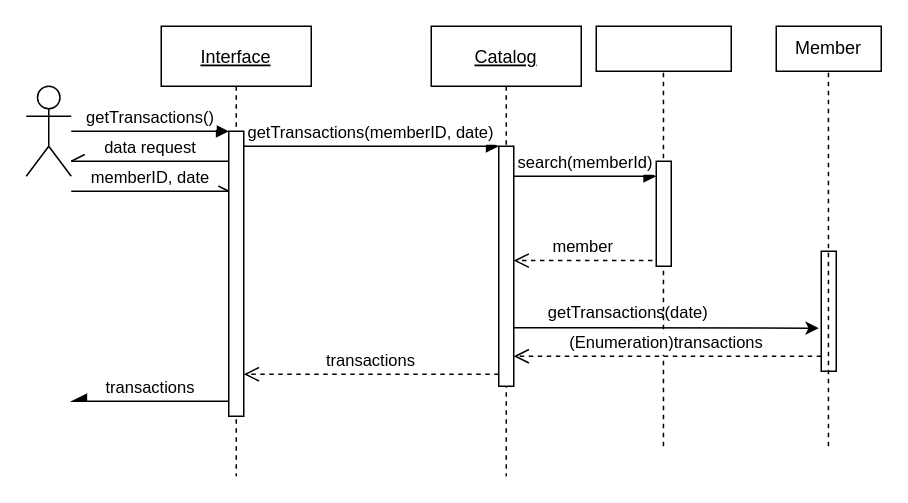
Image size: 908x503. Some labels were removed from this diagram. Here are the shapes that lost their labels. From the top down, the box of each, then its label:
(595, 25, 731, 71): MemberList
(25, 85, 71, 176): Clerk
